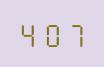four: (18, 20, 39, 47)
seven: (63, 20, 84, 47)
zero: (41, 20, 62, 47)
